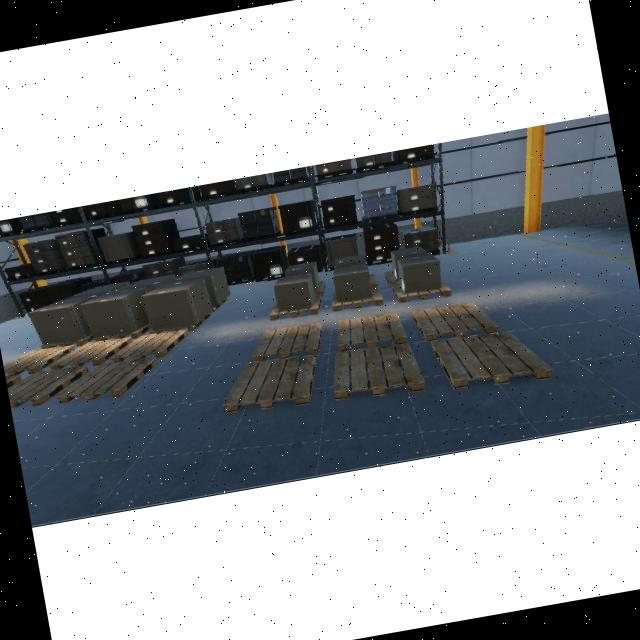wooden_pallet: (429, 330, 553, 388), (333, 343, 427, 400), (223, 356, 317, 412), (55, 357, 158, 402), (411, 301, 500, 342), (7, 366, 89, 408), (250, 323, 323, 362), (49, 336, 132, 370), (337, 313, 407, 351), (110, 329, 189, 362), (3, 345, 76, 375), (268, 293, 322, 320), (391, 279, 452, 302), (332, 284, 383, 310)
